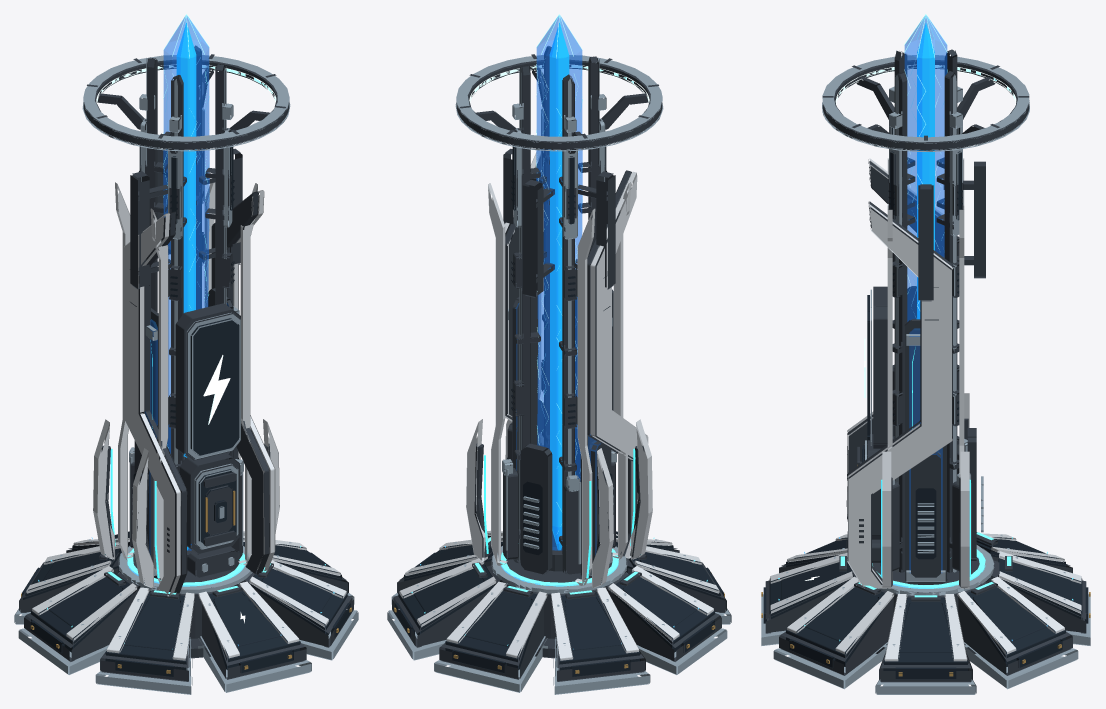
The model's file is agv_charge_tower_LOD1.glb.
3 renders of one model, left to right at view 1: azimuth 30°, elevation 25°; view 2: azimuth 150°, elevation 25°; view 3: azimuth 270°, elevation 25°, orthographic.
Visible parts, largest first — view 1: 04_Internal_Frame, 11_Base_Panels, 10_Base_Frame, 16_Front_Panel, 01_Crystal_Shell, 12_Base_Armor, 07_Halo_Metal, 09_Armor_Side_-1, 18_Charging_Bay, 09_Armor_Lower_Fins, 19_Rear_Service, 15_Mechanical_Details (+13 smaller); view 2: 04_Internal_Frame, 11_Base_Panels, 10_Base_Frame, 01_Crystal_Shell, 19_Rear_Service, 12_Base_Armor, 07_Halo_Metal, 15_Mechanical_Details, 02_Crystal_Inner, 09_Armor_Side_-1, 09_Armor_Lower_Fins, 09_Armor_Back_1 (+7 smaller); view 3: 11_Base_Panels, 10_Base_Frame, 04_Internal_Frame, 09_Armor_Side_1, 12_Base_Armor, 07_Halo_Metal, 19_Rear_Service, 01_Crystal_Shell, 15_Mechanical_Details, 05_Frame_Trim, 16_Front_Panel, 09_Armor_Lower_Fins (+8 smaller).
Boxes of the visible parts, bbox=[...] form: 04_Internal_Frame: bbox=[101, 45, 270, 593]; 11_Base_Panels: bbox=[22, 531, 350, 677]; 10_Base_Frame: bbox=[14, 539, 358, 694]; 16_Front_Panel: bbox=[175, 303, 240, 460]; 01_Crystal_Shell: bbox=[163, 16, 209, 550]; 12_Base_Armor: bbox=[26, 531, 346, 660]; 07_Halo_Metal: bbox=[82, 54, 290, 153]; 09_Armor_Side_-1: bbox=[123, 213, 180, 596]; 18_Charging_Bay: bbox=[179, 453, 239, 577]; 09_Armor_Lower_Fins: bbox=[93, 419, 279, 588]; 19_Rear_Service: bbox=[130, 148, 242, 563]; 15_Mechanical_Details: bbox=[21, 145, 351, 673]; 04_Internal_Frame: bbox=[474, 46, 644, 584]; 11_Base_Panels: bbox=[395, 531, 723, 677]; 10_Base_Frame: bbox=[387, 539, 731, 694]; 01_Crystal_Shell: bbox=[536, 16, 582, 550]; 19_Rear_Service: bbox=[503, 148, 615, 574]; 12_Base_Armor: bbox=[399, 530, 719, 660]; 07_Halo_Metal: bbox=[455, 54, 663, 153]; 15_Mechanical_Details: bbox=[394, 145, 724, 673]; 02_Crystal_Inner: bbox=[549, 23, 569, 550]; 09_Armor_Side_-1: bbox=[590, 171, 648, 558]; 09_Armor_Lower_Fins: bbox=[466, 419, 652, 588]; 09_Armor_Back_1: bbox=[488, 183, 507, 565]; 11_Base_Panels: bbox=[763, 532, 1088, 679]; 10_Base_Frame: bbox=[761, 545, 1090, 694]; 04_Internal_Frame: bbox=[846, 49, 973, 588]; 09_Armor_Side_1: bbox=[847, 204, 952, 588]; 12_Base_Armor: bbox=[770, 533, 1081, 661]; 07_Halo_Metal: bbox=[822, 55, 1029, 151]; 19_Rear_Service: bbox=[911, 161, 985, 577]; 01_Crystal_Shell: bbox=[904, 16, 947, 321]; 15_Mechanical_Details: bbox=[761, 127, 1090, 676]; 05_Frame_Trim: bbox=[889, 50, 962, 581]; 16_Front_Panel: bbox=[867, 286, 887, 448]; 09_Armor_Lower_Fins: bbox=[882, 393, 969, 588].
Size of the model in its own units: 1.48 by 3 by 1.48.
